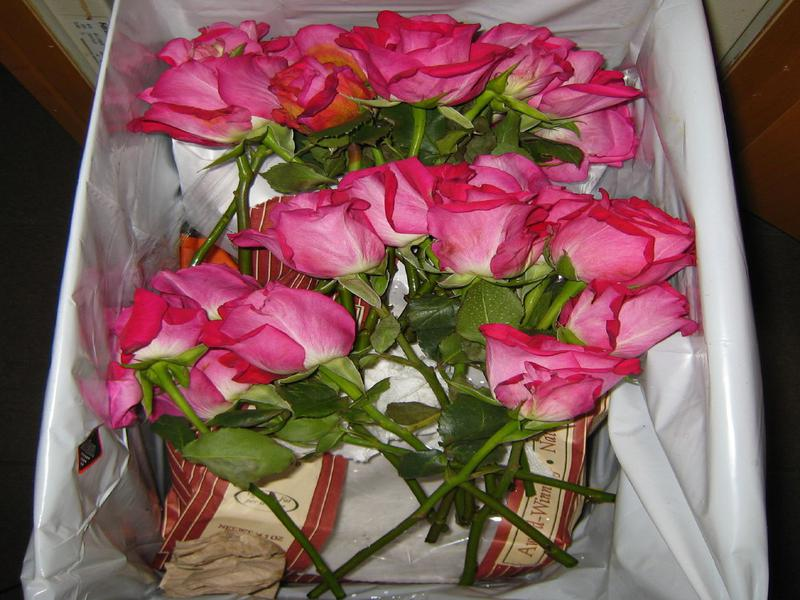flowers: (80, 11, 708, 448), (467, 318, 645, 437)
